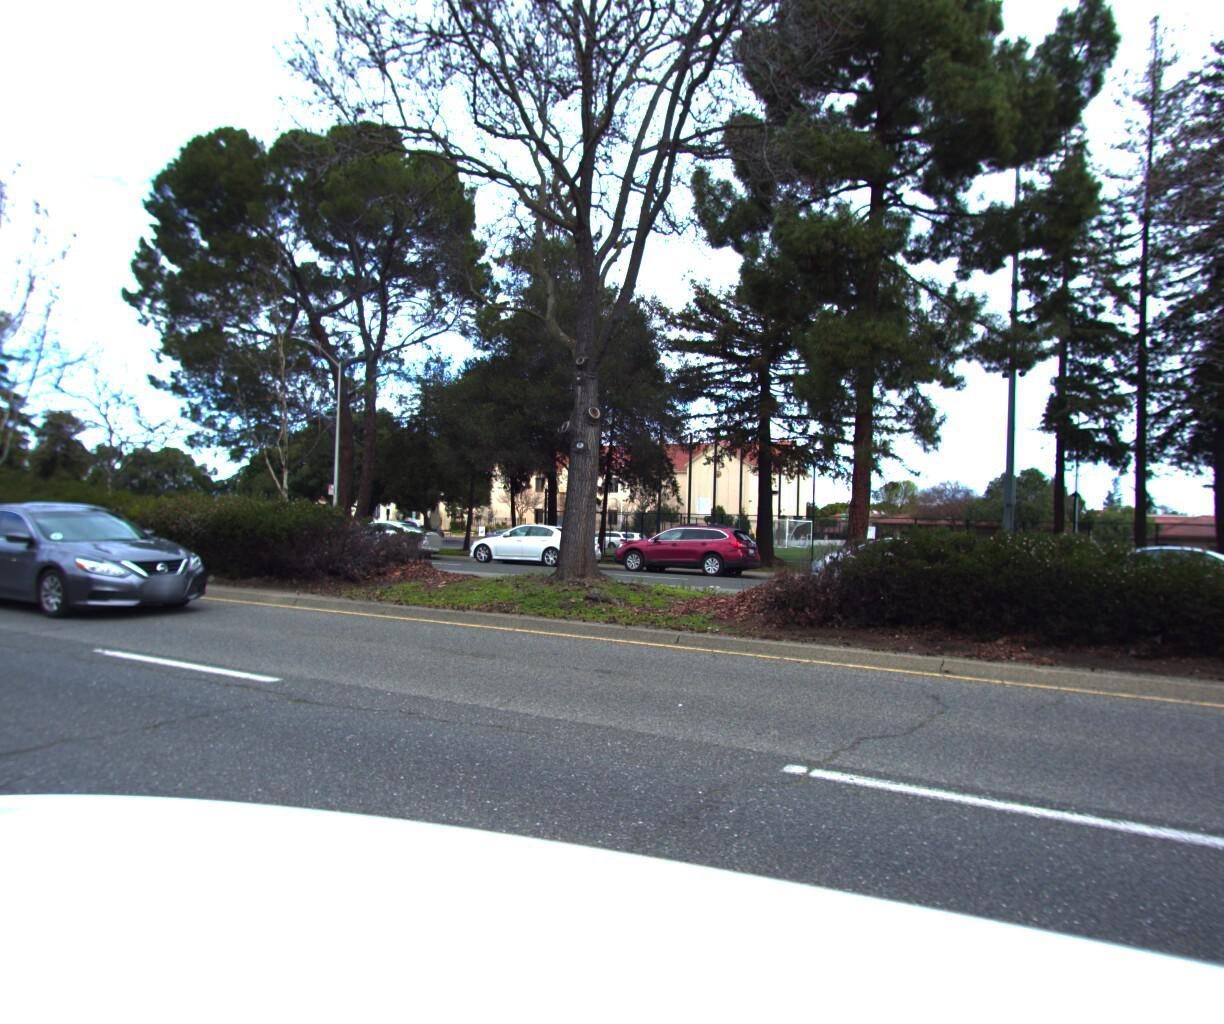car: (0, 501, 227, 631), (1040, 532, 1224, 614), (794, 524, 980, 592), (604, 515, 766, 576), (469, 514, 609, 563), (327, 513, 449, 556)
